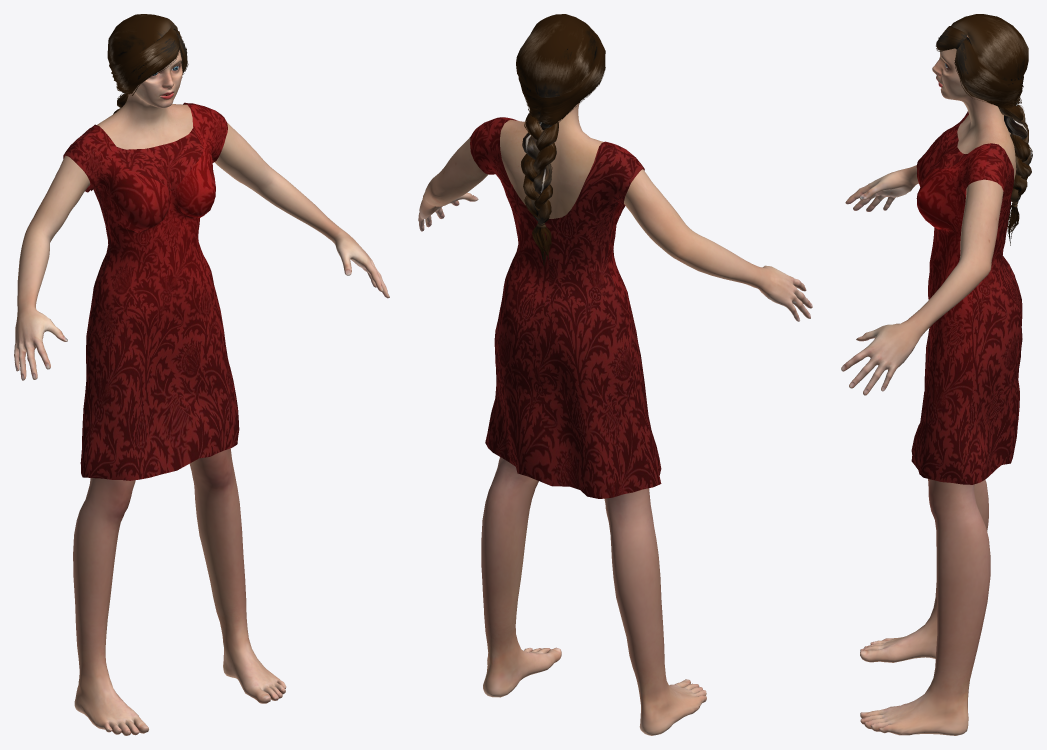
File: Woman01.fbx
3 renders of one model, left to right at view 1: azimuth 30°, elevation 25°; view 2: azimuth 150°, elevation 25°; view 3: azimuth 270°, elevation 25°, orthographic. The views are drawn at different scales.
Parts seen in each view (by area): view 1: red_woman-f_dress_01, red_woman-base, red_woman-braid01; view 2: red_woman-f_dress_01, red_woman-base, red_woman-braid01; view 3: red_woman-base, red_woman-f_dress_01, red_woman-braid01.
Boxes of the visible parts, x1,y1,x2,y2 form: red_woman-f_dress_01: [63, 102, 239, 480]; red_woman-base: [14, 50, 389, 735]; red_woman-braid01: [107, 14, 188, 114]; red_woman-f_dress_01: [470, 117, 661, 498]; red_woman-base: [418, 103, 812, 735]; red_woman-braid01: [516, 14, 605, 266]; red_woman-base: [841, 35, 1016, 735]; red_woman-f_dress_01: [911, 111, 1022, 484]; red_woman-braid01: [936, 14, 1032, 245].
Bounding box in the file's own units: 474 × 829 × 212.
